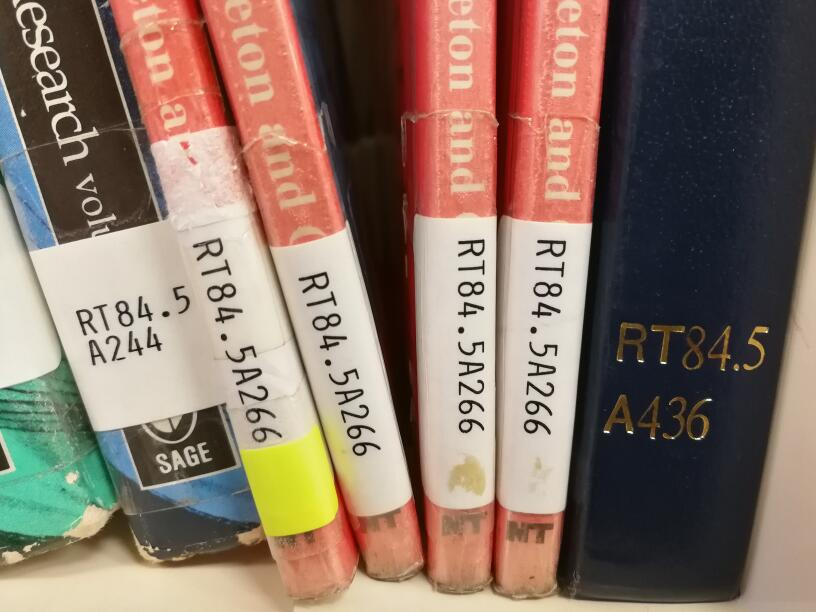booklabel: (599, 315, 774, 447), (185, 226, 287, 449), (291, 267, 387, 459), (69, 279, 194, 369), (520, 232, 570, 441), (449, 234, 491, 438)
